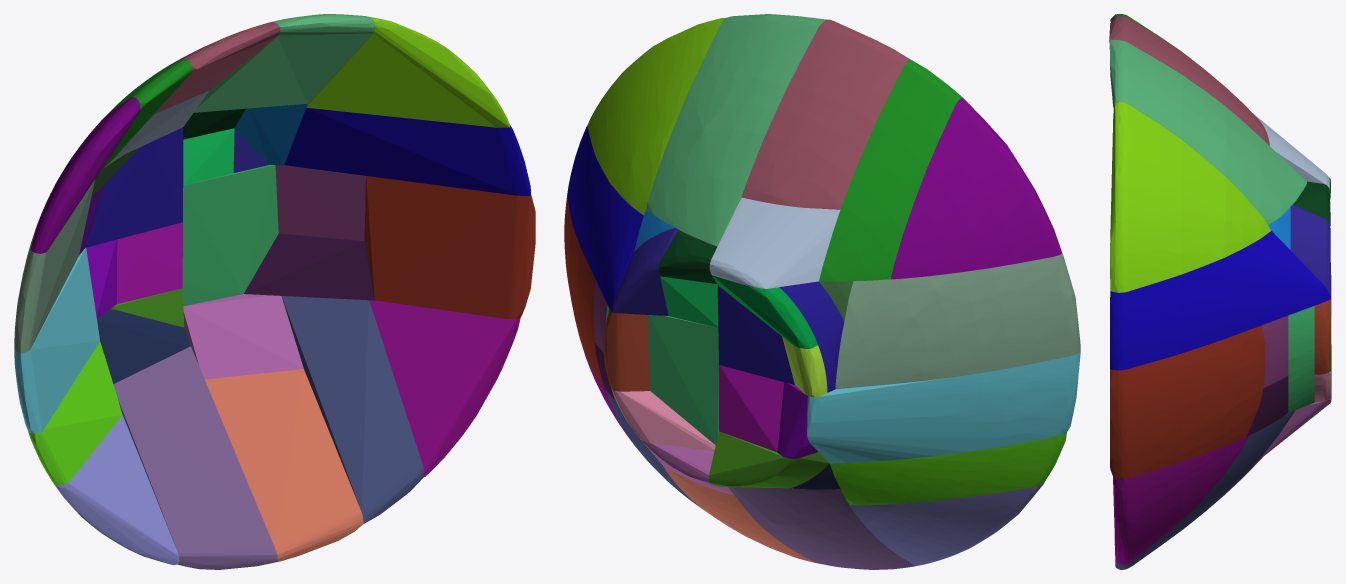
File: coacd_collision.obj
3 renders of one model, left to right at view 1: azimuth 30°, elevation 25°; view 2: azimuth 150°, elevation 25°; view 3: azimuth 270°, elevation 25°, orthographic. The views are drawn at different scales.
Visible parts, largest first — view 1: geometry_15, geometry_1, geometry_9, geometry_16, geometry_5, geometry_14, geometry_4, geometry_10, geometry_3, geometry_12, geometry_7, geometry_2 (+17 smaller); view 2: geometry_0, geometry_3, geometry_2, geometry_13, geometry_11, geometry_8, geometry_4, geometry_17, geometry_6, geometry_1, geometry_12, geometry_20 (+19 smaller); view 3: geometry_4, geometry_15, geometry_5, geometry_3, geometry_14, geometry_13, geometry_16, geometry_10, geometry_18, geometry_28, geometry_26, geometry_6 (+5 smaller).
Part boxes in pixels (x1,y1,x2,y2): geometry_15: (364,176,535,319); geometry_1: (113,346,277,569); geometry_9: (205,369,363,561); geometry_16: (281,296,423,523); geometry_5: (284,107,530,195); geometry_14: (369,300,520,476); geometry_4: (306,17,509,127); geometry_10: (182,165,278,306); geometry_3: (194,14,374,112); geometry_12: (54,415,178,565); geometry_7: (183,294,303,379); geometry_2: (14,248,99,433); geometry_0: (835,252,1080,389); geometry_3: (646,14,826,246); geometry_2: (807,351,1080,463); geometry_13: (741,19,910,209); geometry_11: (891,98,1061,279); geometry_8: (819,59,962,281); geometry_4: (587,18,725,215); geometry_17: (830,432,1066,505); geometry_6: (709,197,840,288); geometry_1: (728,487,915,569); geometry_12: (850,482,1044,565); geometry_20: (717,281,844,392); geometry_4: (1110,102,1271,292); geometry_15: (1110,325,1265,479); geometry_5: (1110,231,1330,370); geometry_3: (1109,40,1306,224); geometry_14: (1113,435,1249,565); geometry_13: (1109,16,1269,145); geometry_16: (1115,410,1295,569); geometry_10: (1288,306,1314,412); geometry_18: (1290,204,1330,297); geometry_28: (1262,315,1288,387); geometry_26: (1246,376,1288,436); geometry_6: (1253,113,1329,192).
Bounding box in the file's own units: 178 × 178 × 71.44.
